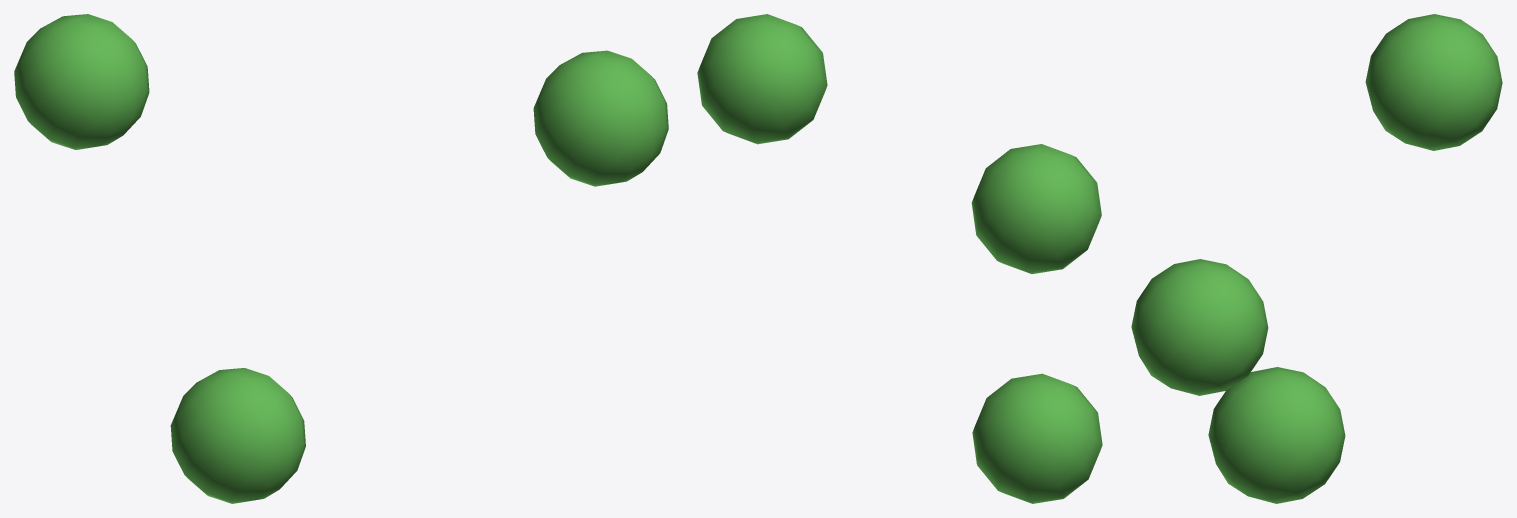
Rendered from linfatico-retrocaecal-nodes.glb.
3 views of the same model, side by side, from view 1: azimuth 30°, elevation 25°; view 2: azimuth 150°, elevation 25°; view 3: azimuth 270°, elevation 25° (orthographic). The views are drawn at different scales.
Parts seen in each view (by area): view 1: Retrocaecal nodes; view 2: Retrocaecal nodes; view 3: Retrocaecal nodes.
Boxes of the visible parts, x1,y1,x2,y2 form: Retrocaecal nodes: [14, 14, 668, 503]; Retrocaecal nodes: [697, 14, 1102, 503]; Retrocaecal nodes: [1131, 14, 1502, 503].
Bounding box in the file's own units: 0.0113 × 0.00918 × 0.00704.
